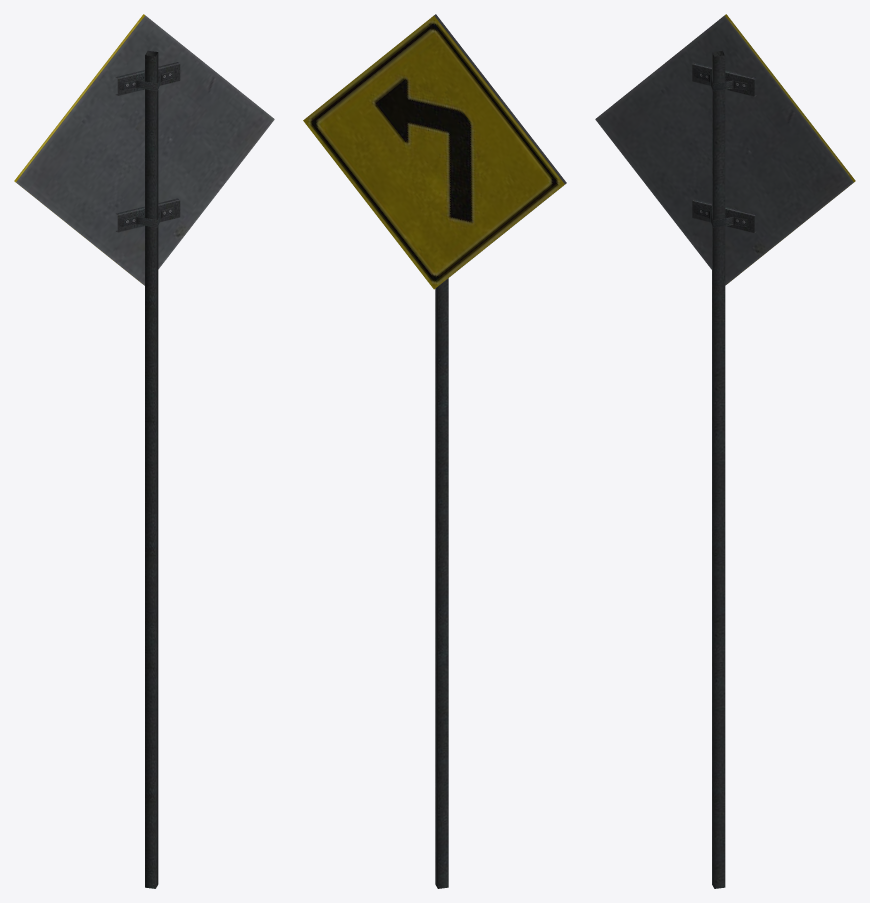
Rendered from Turn_Left_Arrow.glb.
3 renders of one model, left to right at view 1: azimuth 30°, elevation 25°; view 2: azimuth 150°, elevation 25°; view 3: azimuth 330°, elevation 25°, orthographic.
Parts seen in each view (by area): view 1: Turn_Left_Arrow__LOD1; view 2: Turn_Left_Arrow__LOD1; view 3: Turn_Left_Arrow__LOD1.
Boxes of the visible parts, box(x1,y1,x2,y2) form: Turn_Left_Arrow__LOD1: box(14, 14, 274, 888); Turn_Left_Arrow__LOD1: box(303, 14, 566, 888); Turn_Left_Arrow__LOD1: box(595, 14, 855, 888).
Size of the model in its own units: 0.9743 by 3.11 by 0.0893.
Materials: 1 (1 with a texture image).
